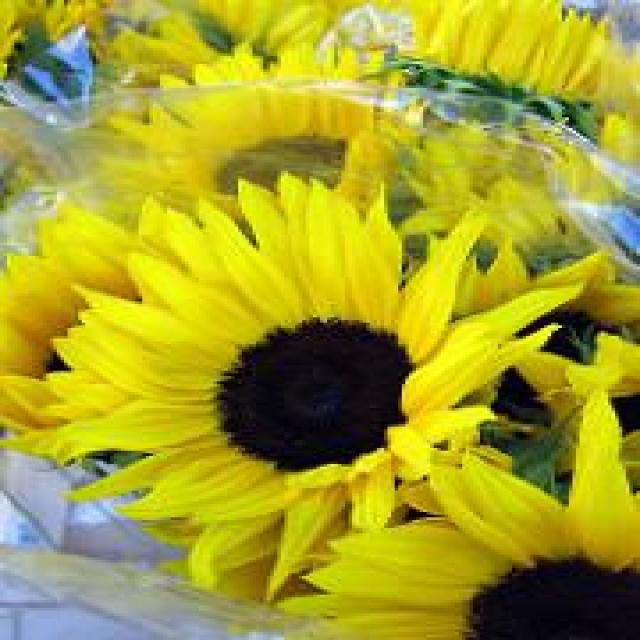sunflower: (45, 174, 578, 600), (274, 392, 640, 640), (111, 43, 391, 217), (0, 208, 206, 429), (430, 235, 640, 429), (402, 2, 611, 92)
